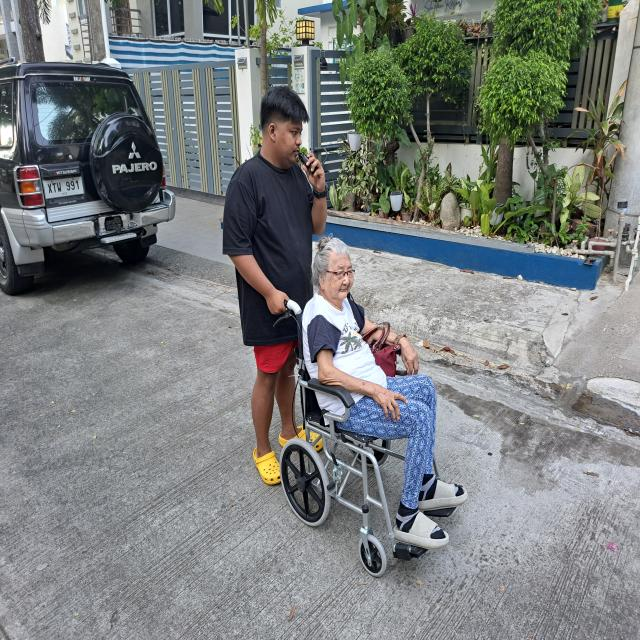wheelchairs: (278, 288, 460, 584)
